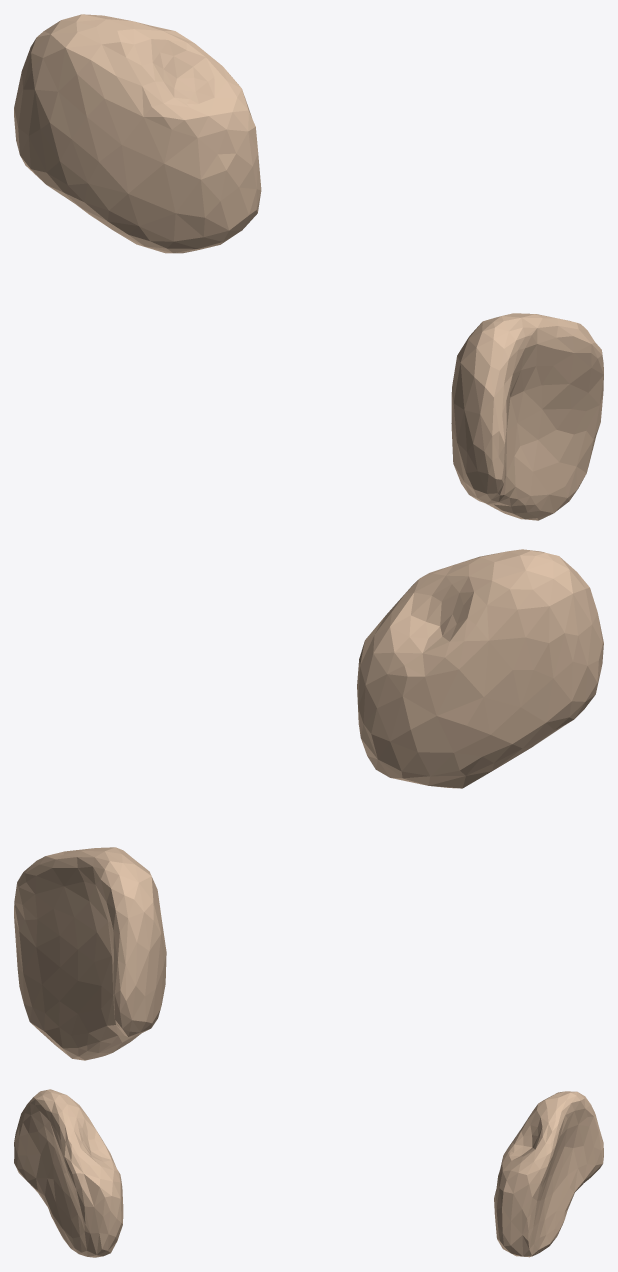
The picture shows the model from 3 angles, top to bottom: view 1: azimuth 30°, elevation 25°; view 2: azimuth 150°, elevation 25°; view 3: azimuth 270°, elevation 25°; orthographic projection. The views are drawn at different scales.
Parts seen in each view (by area): view 1: 549009215.obj; view 2: 549009215.obj; view 3: 549009215.obj.
Part boxes in pixels (x1,y1,x2,y2): 549009215.obj: [14, 14, 603, 520]; 549009215.obj: [14, 549, 603, 1060]; 549009215.obj: [14, 1089, 603, 1257].
Bounding box in the file's own units: 753 × 915 × 3450.
